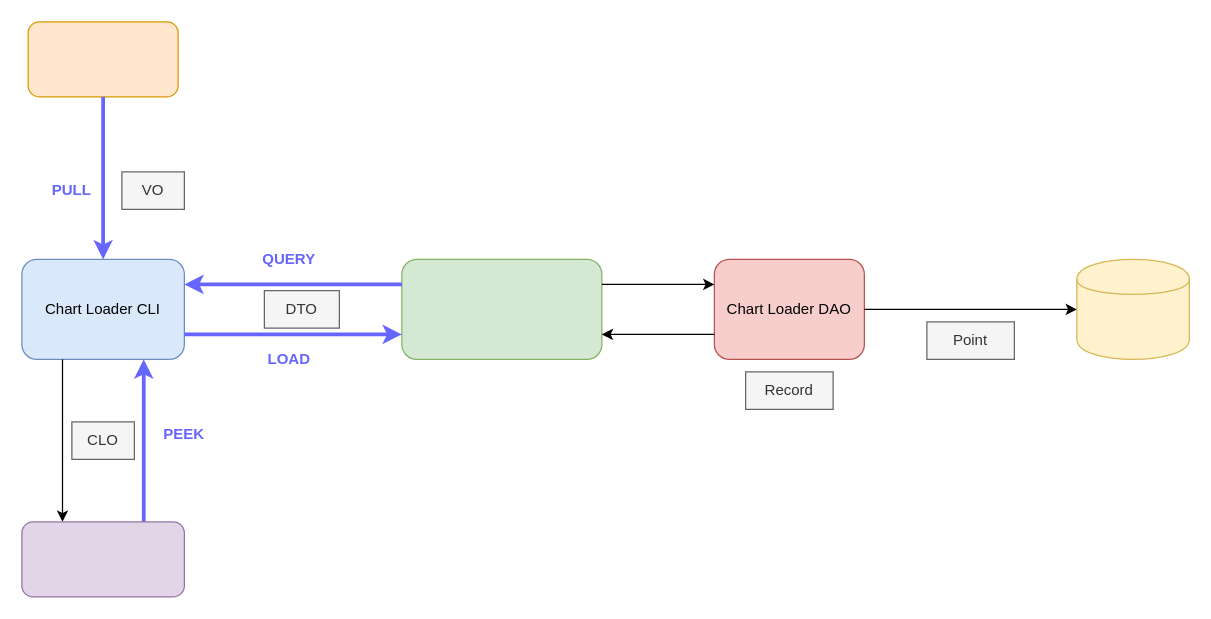
This 1211x619 diagram has some shape labels left out. The shapes that lost their labels are listed below. From the top down, each one's centre as x and y in pixels, then its label:
At pixel 102 59: "Chart Delegate".
At pixel 501 308: "Chart Loader Service".
At pixel 1132 308: "Influx DB".
At pixel 102 559: "File System".
